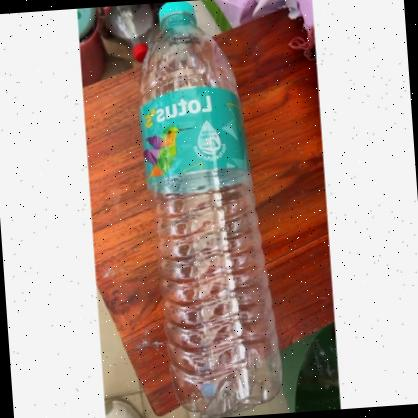bottle: (130, 0, 287, 418)
cap: (156, 0, 200, 28)
label: (140, 85, 253, 188)
